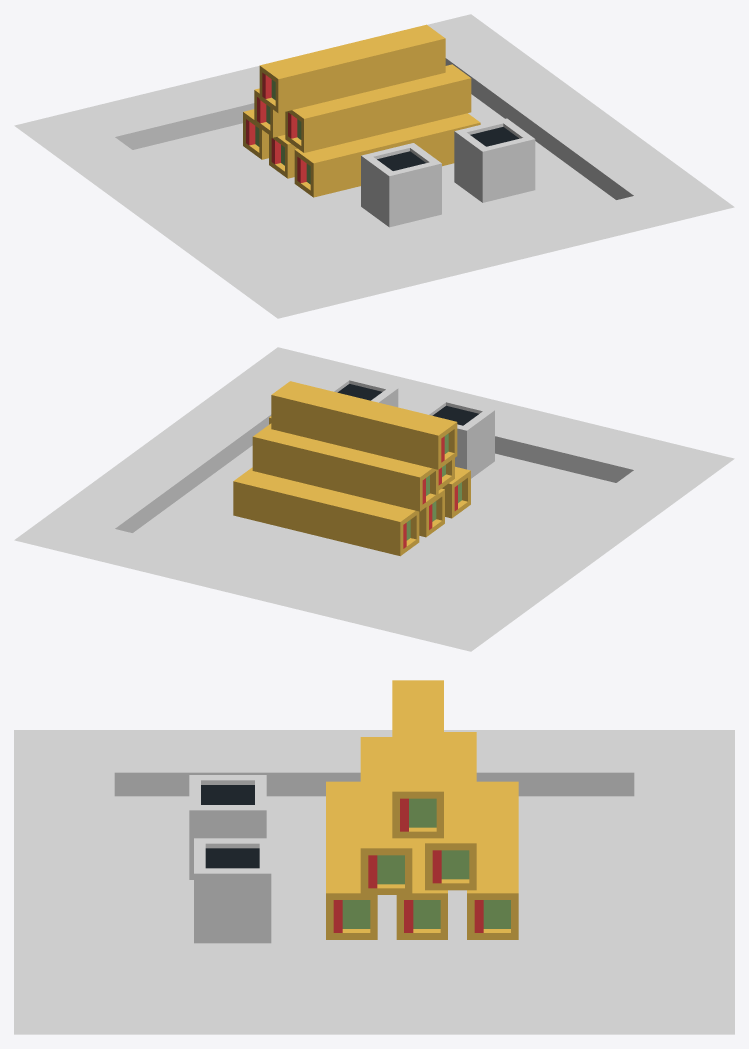
The model's file is sushi.glb.
The picture shows the model from 3 angles, top to bottom: view 1: azimuth 30°, elevation 25°; view 2: azimuth 150°, elevation 25°; view 3: azimuth 270°, elevation 25°; orthographic projection. The views are drawn at different scales.
Parts seen in each view (by area): view 1: Plane, Rollitos.004, Rollitos.001, Rollitos, salsa sushi 2, salsa sushi 1, Rollitos.002; view 2: Plane, Rollitos, Rollitos.004, Rollitos.002, salsa sushi 1, salsa sushi 2; view 3: Plane, Rollitos, Rollitos.004, salsa sushi 2, Rollitos.001, Rollitos.002, salsa sushi 1.
Boxes of the visible parts, x1,y1,x2,y2 form: Plane: (14,14,734,318); Rollitos.004: (259,24,445,113); Rollitos.001: (285,64,471,152); Rollitos: (243,109,480,197); salsa sushi 2: (454,118,535,202); salsa sushi 1: (361,143,441,227); Rollitos.002: (254,88,285,137); Plane: (14,347,734,651); Rollitos: (233,466,470,556); Rollitos.004: (271,381,457,469); Rollitos.002: (252,423,438,511); salsa sushi 1: (421,397,494,478); salsa sushi 2: (326,375,398,407); Plane: (14,730,734,1034); Rollitos: (326,781,518,939); Rollitos.004: (392,680,443,838); salsa sushi 2: (194,838,271,943); Rollitos.001: (360,737,412,894); Rollitos.002: (425,732,476,890); salsa sushi 1: (189,775,266,879).
Size of the model in its own units: 18.71 by 4.76 by 18.71.
